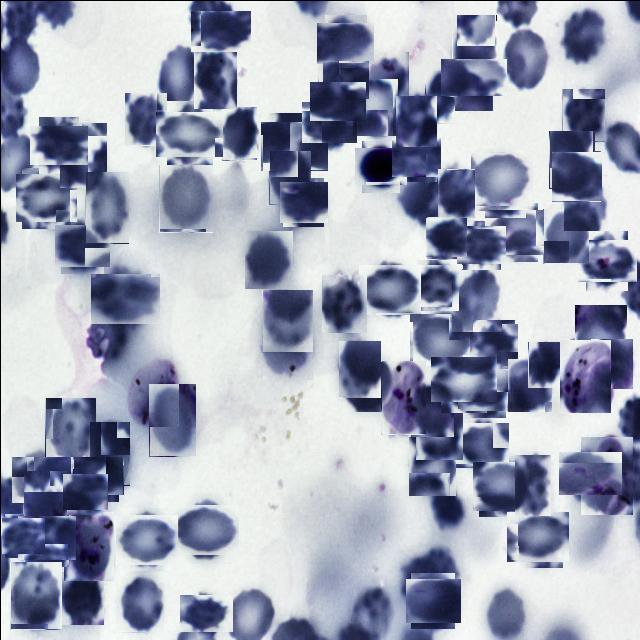leukocyte: (358, 144, 402, 188)
red blood cell: (158, 164, 212, 232), (94, 268, 154, 328), (9, 561, 61, 629), (175, 500, 234, 559), (148, 383, 195, 456), (44, 397, 95, 463), (411, 310, 469, 368), (472, 150, 530, 208), (264, 116, 322, 174), (160, 105, 218, 162), (500, 25, 550, 91), (574, 304, 626, 366), (261, 289, 312, 352), (58, 122, 106, 188), (84, 171, 128, 243), (451, 268, 501, 331), (509, 508, 565, 564), (361, 260, 417, 316), (475, 458, 531, 514), (435, 351, 491, 407), (262, 317, 312, 379), (118, 511, 174, 566), (18, 170, 73, 225), (156, 42, 201, 109), (14, 452, 68, 506), (408, 436, 456, 496), (82, 304, 130, 363), (564, 446, 616, 500), (451, 14, 496, 76), (116, 574, 164, 632), (342, 352, 390, 410), (488, 205, 540, 258), (245, 230, 292, 288), (560, 4, 606, 63), (447, 51, 499, 103), (548, 130, 594, 188), (351, 78, 397, 136), (20, 511, 72, 562), (88, 421, 129, 485), (321, 274, 366, 332), (22, 470, 66, 529), (195, 6, 246, 56), (542, 208, 588, 263), (456, 419, 506, 469), (407, 574, 457, 624), (320, 18, 370, 68), (550, 150, 600, 200), (563, 174, 607, 230), (193, 51, 236, 108), (362, 51, 408, 104), (506, 358, 551, 412), (410, 380, 453, 436), (57, 221, 106, 270), (304, 98, 354, 146), (34, 120, 82, 170), (415, 408, 462, 459), (338, 340, 380, 396), (460, 366, 508, 414), (313, 77, 361, 125), (123, 92, 166, 145), (561, 88, 604, 141), (268, 150, 310, 204), (61, 571, 103, 624), (514, 454, 550, 515), (394, 95, 436, 147), (414, 262, 460, 308), (590, 338, 632, 388), (470, 321, 516, 366), (182, 590, 228, 635), (486, 586, 524, 640), (280, 179, 325, 224), (76, 453, 121, 498), (458, 222, 502, 266), (394, 134, 438, 178), (436, 168, 474, 218), (221, 106, 256, 160), (324, 57, 366, 100), (64, 471, 104, 512), (426, 216, 466, 256), (2, 515, 42, 555), (526, 341, 560, 388), (424, 69, 453, 123)
trophozoite: (580, 436, 632, 514), (559, 339, 610, 412), (126, 358, 178, 426), (63, 511, 113, 580), (380, 360, 425, 434), (580, 234, 632, 286)
